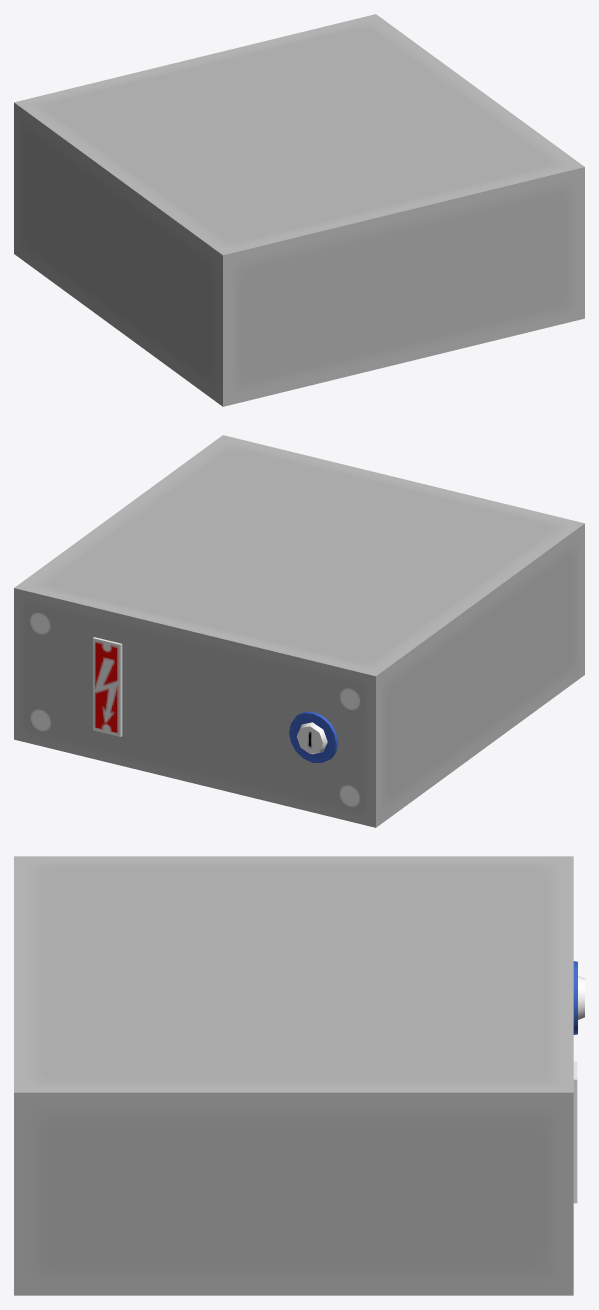
The model's file is Pfb_ElectricControlBox.fbx.
The picture shows the model from 3 angles, top to bottom: view 1: azimuth 30°, elevation 25°; view 2: azimuth 150°, elevation 25°; view 3: azimuth 270°, elevation 25°; orthographic projection. The views are drawn at different scales.
Parts seen in each view (by area): view 1: MAT_ElectricControlBox; view 2: MAT_ElectricControlBox; view 3: MAT_ElectricControlBox.
Part boxes in pixels (bbox=[...]): MAT_ElectricControlBox: bbox=[14, 14, 584, 406]; MAT_ElectricControlBox: bbox=[14, 435, 584, 827]; MAT_ElectricControlBox: bbox=[14, 856, 584, 1295].
Bounding box in the file's own units: 1 × 0.4 × 1.02.
1 material, 1 textured.
